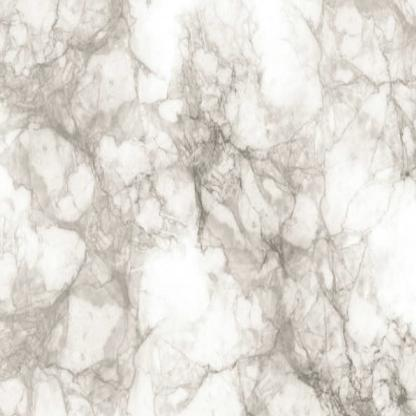Metamorphic_Marble: (0, 3, 416, 415)
